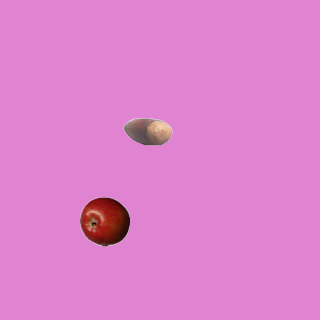Apple Braeburn: (79, 196, 129, 246)
Hazelnut: (122, 106, 172, 156)
